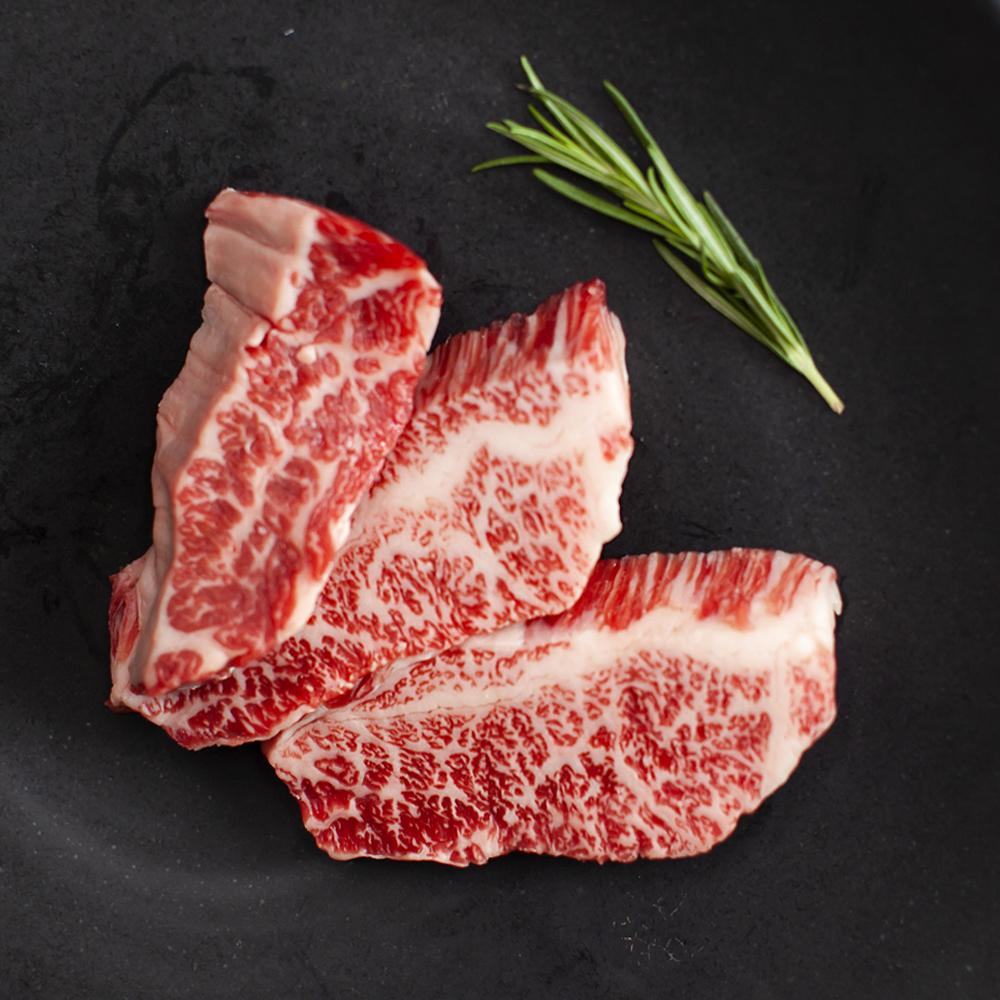beef: (539, 790, 1000, 1000)
